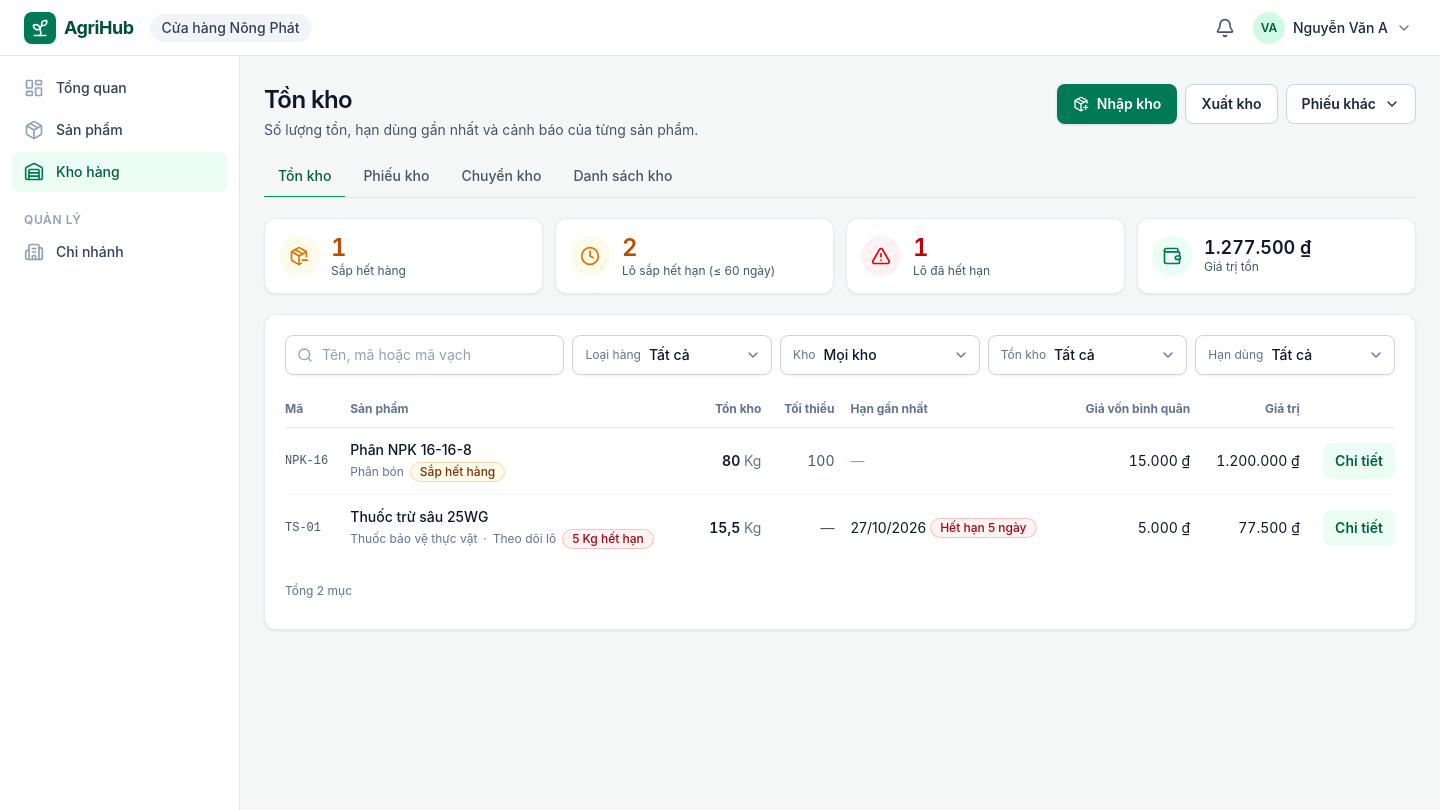
Test: trang Tồn kho › chi tiết một sản phẩm: tồn theo lô kèm hạn dùng và thẻ kho
Step 1. Click the button with aria-label "Chi tiết Thuốc trừ sâu 25WG" → x=1359, y=528, box top-left (1323, 510), bottom-right (1395, 546)
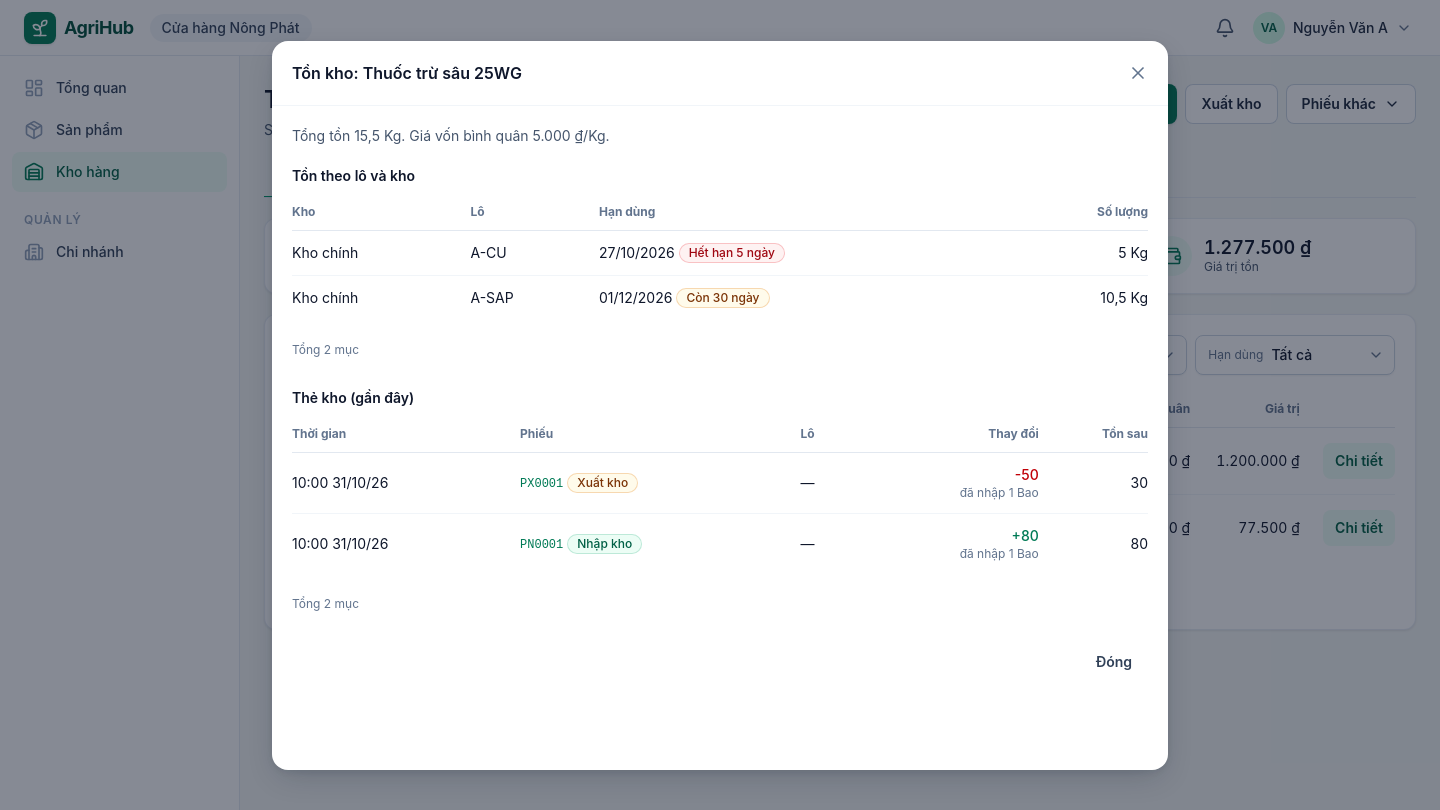
Check: the text "Tổng tồn 15,5 Kg. Giá vốn bình quân 5.000 ₫/Kg." is shown, box top-left (292, 126), bottom-right (610, 144)
Check: the text "A-CU" is shown, box top-left (470, 230), bottom-right (599, 275)
Check: the text "A-SAP" is shown, box top-left (470, 275), bottom-right (599, 320)
